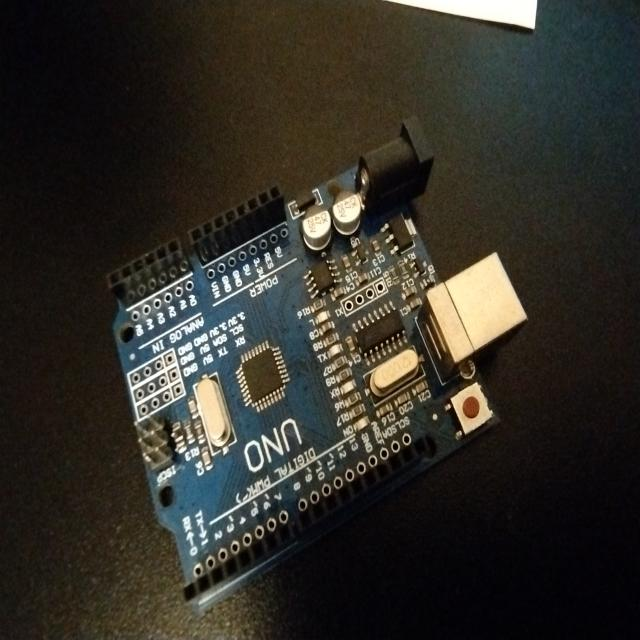arduino: (102, 120, 518, 608)
